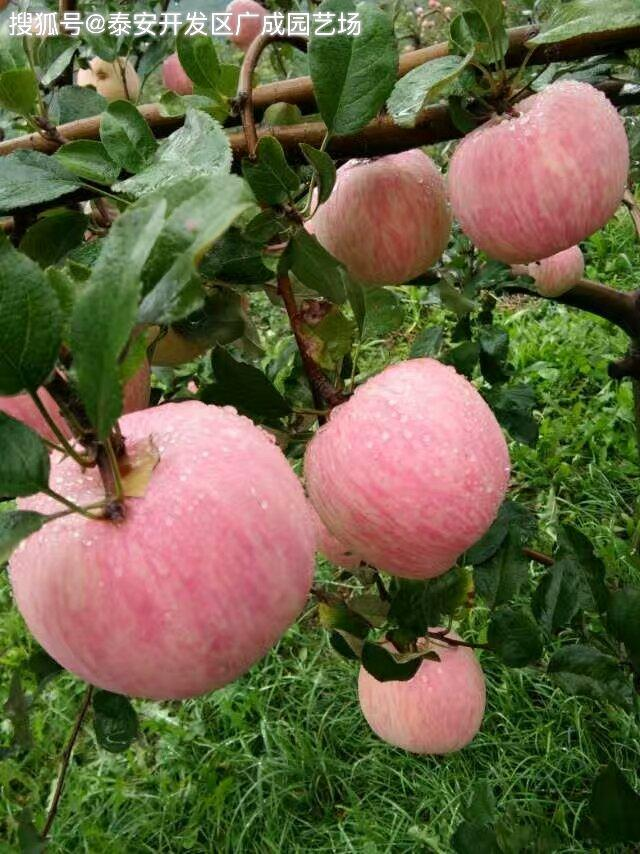apple: (9, 404, 319, 704), (300, 355, 513, 582), (446, 75, 634, 262), (307, 148, 452, 288), (356, 627, 486, 754)
